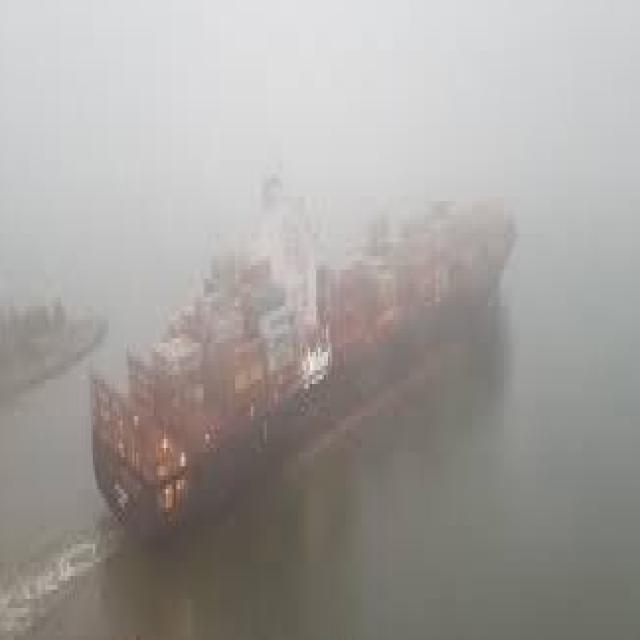cargoship: (85, 148, 518, 530), (0, 265, 101, 407)
